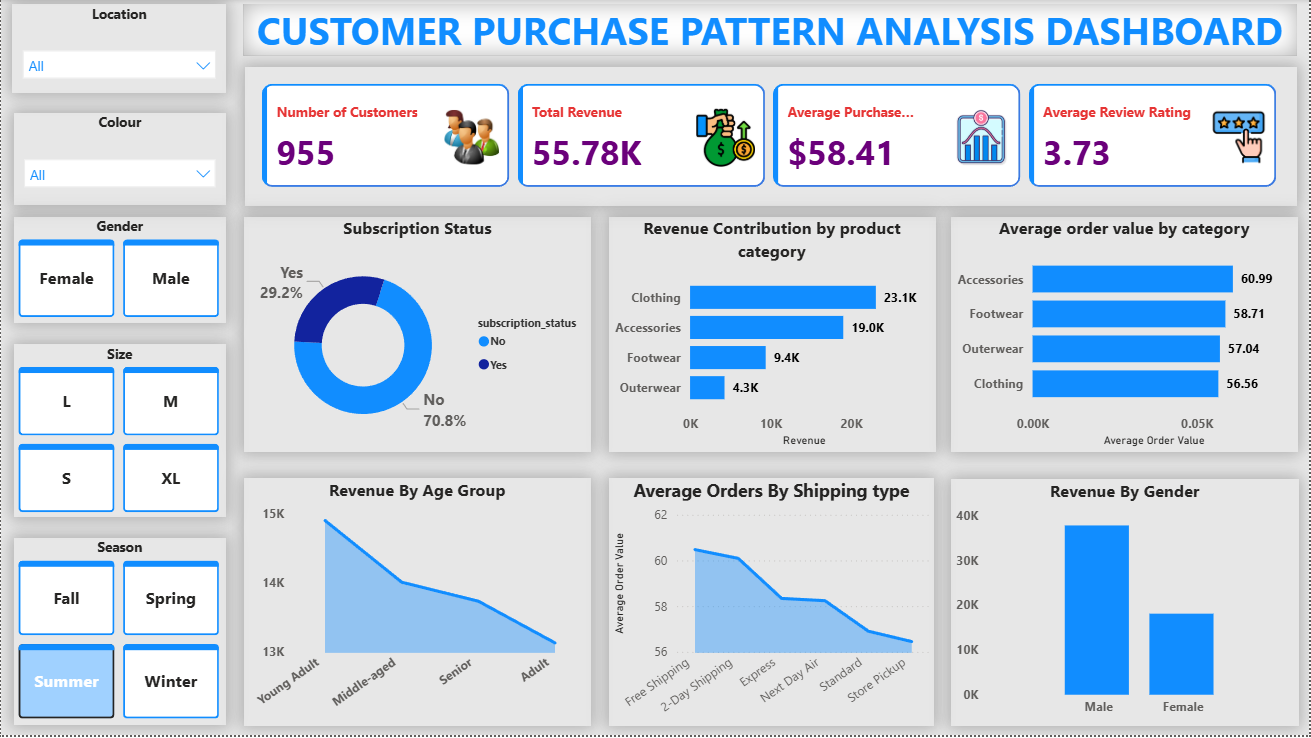

This screenshot's page, from the dashboard's own definition file:
{"tool":"powerbi","page":{"name":"Page 1","canvas":[1280,720],"ordinal":0},"visuals":[{"type":"cardVisual","fields":{"Data":["cleaned Customer Behaviour Data.Number of Customers","cleaned Customer Behaviour Data.Total Revenue","cleaned Customer Behaviour Data.Average Purchase Ammount","cleaned Customer Behaviour Data.Average Review Rating"]},"box":[238,66,1029.6,135.8],"z":0},{"type":"donutChart","title":"Subscription Status","fields":{"Y":["CountNonNull(cleaned Customer Behaviour Data.customer_id)"],"Category":["cleaned Customer Behaviour Data.subscription_status"]},"box":[237.4,212.7,340.3,230.5],"z":1000},{"type":"barChart","title":"Revenue Contribution by product category","fields":{"Category":["cleaned Customer Behaviour Data.category"],"Y":["Sum(cleaned Customer Behaviour Data.purchase_amount)"]},"box":[594.2,212.7,319.7,230.5],"z":2000},{"type":"clusteredBarChart","title":"Average order value by category","fields":{"Category":["cleaned Customer Behaviour Data.category"],"Y":["cleaned Customer Behaviour Data.Average Order Value"]},"box":[929,212.7,338.9,230.5],"z":3000},{"type":"stackedAreaChart","title":"Revenue By Age Group","fields":{"Category":["cleaned Customer Behaviour Data.age_group"],"Y":["Sum(cleaned Customer Behaviour Data.purchase_amount)"]},"box":[237.5,468.8,340,242.5],"z":4000},{"type":"stackedAreaChart","title":"Average Orders By  Shipping type","fields":{"Y":["cleaned Customer Behaviour Data.Average Order Value"],"Category":["cleaned Customer Behaviour Data.shipping_type"]},"box":[593.8,468.8,318.8,242.5],"z":5000},{"type":"columnChart","title":"Revenue By Gender","fields":{"Category":["cleaned Customer Behaviour Data.gender"],"Y":["Sum(cleaned Customer Behaviour Data.purchase_amount)"]},"box":[928.8,470,340,241.2],"z":6000},{"type":"advancedSlicerVisual","title":"Season","fields":{"Values":["cleaned Customer Behaviour Data.season"]},"box":[12.2,527,207.9,183.4],"z":7000},{"type":"advancedSlicerVisual","title":"Size","fields":{"Values":["cleaned Customer Behaviour Data.size"]},"box":[12.2,337.5,207.9,170],"z":8000},{"type":"advancedSlicerVisual","title":"Gender","fields":{"Values":["cleaned Customer Behaviour Data.gender"]},"box":[12.2,212.8,207.9,103.9],"z":9000},{"type":"slicer","title":"Colour","fields":{"Values":["cleaned Customer Behaviour Data.color"]},"box":[12.2,111.3,207.9,90.5],"z":10000},{"type":"slicer","title":"Location","fields":{"Values":["cleaned Customer Behaviour Data.location"]},"box":[11,4.9,209.1,86.8],"z":11000},{"type":"textbox","title":"CUSTOMER PURCHASE PATTERN ANALYSIS DASHBOARD","box":[237.1,4.3,1030,50],"z":12000}]}

Visuals, with their boxes in screenshot pixels (x1, y1, x2, y2), scaled from the page's 1280x720 canvas onto the 1311x738 screenshot:
cardVisual - cleaned Customer Behaviour Data.Number of Customers x cleaned Customer Behaviour Data.Total Revenue: locate(244, 68, 1298, 207)
"Subscription Status" donutChart: locate(243, 218, 592, 454)
"Revenue Contribution by product category" barChart: locate(609, 218, 936, 454)
"Average order value by category" clusteredBarChart: locate(951, 218, 1299, 454)
"Revenue By Age Group" stackedAreaChart: locate(243, 481, 591, 729)
"Average Orders By  Shipping type" stackedAreaChart: locate(608, 481, 935, 729)
"Revenue By Gender" columnChart: locate(951, 482, 1300, 729)
"Season" advancedSlicerVisual: locate(12, 540, 225, 728)
"Size" advancedSlicerVisual: locate(12, 346, 225, 520)
"Gender" advancedSlicerVisual: locate(12, 218, 225, 325)
"Colour" slicer: locate(12, 114, 225, 207)
"Location" slicer: locate(11, 5, 225, 94)
"CUSTOMER PURCHASE PATTERN ANALYSIS DASHBOARD" textbox: locate(243, 4, 1298, 56)
